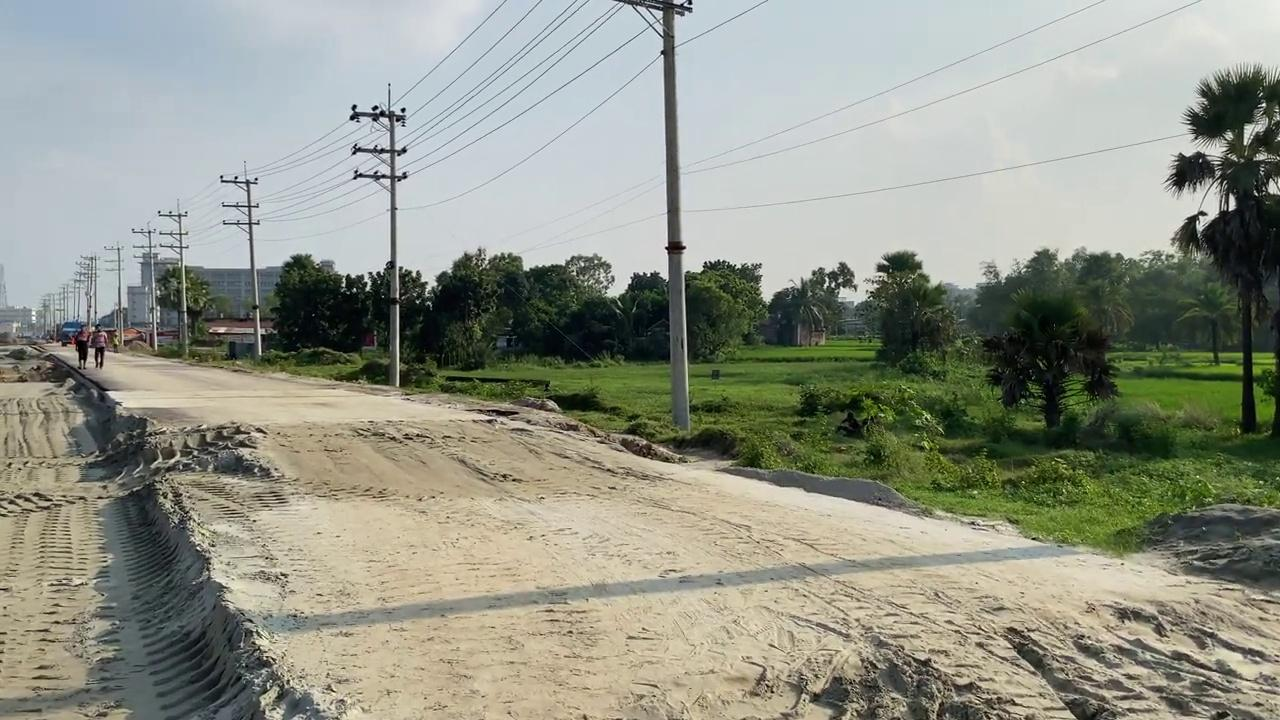Pole: (660, 3, 690, 432), (386, 83, 401, 387)
Rickshaw: (4, 338, 1277, 718)
Traffic-sign: (1162, 60, 1279, 433), (980, 283, 1119, 431), (856, 248, 956, 368), (773, 260, 856, 346), (155, 262, 214, 342)
Tree: (57, 320, 144, 347)
